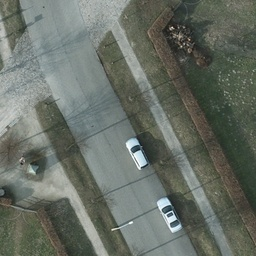car: (158, 197, 181, 234), (124, 137, 149, 170)
